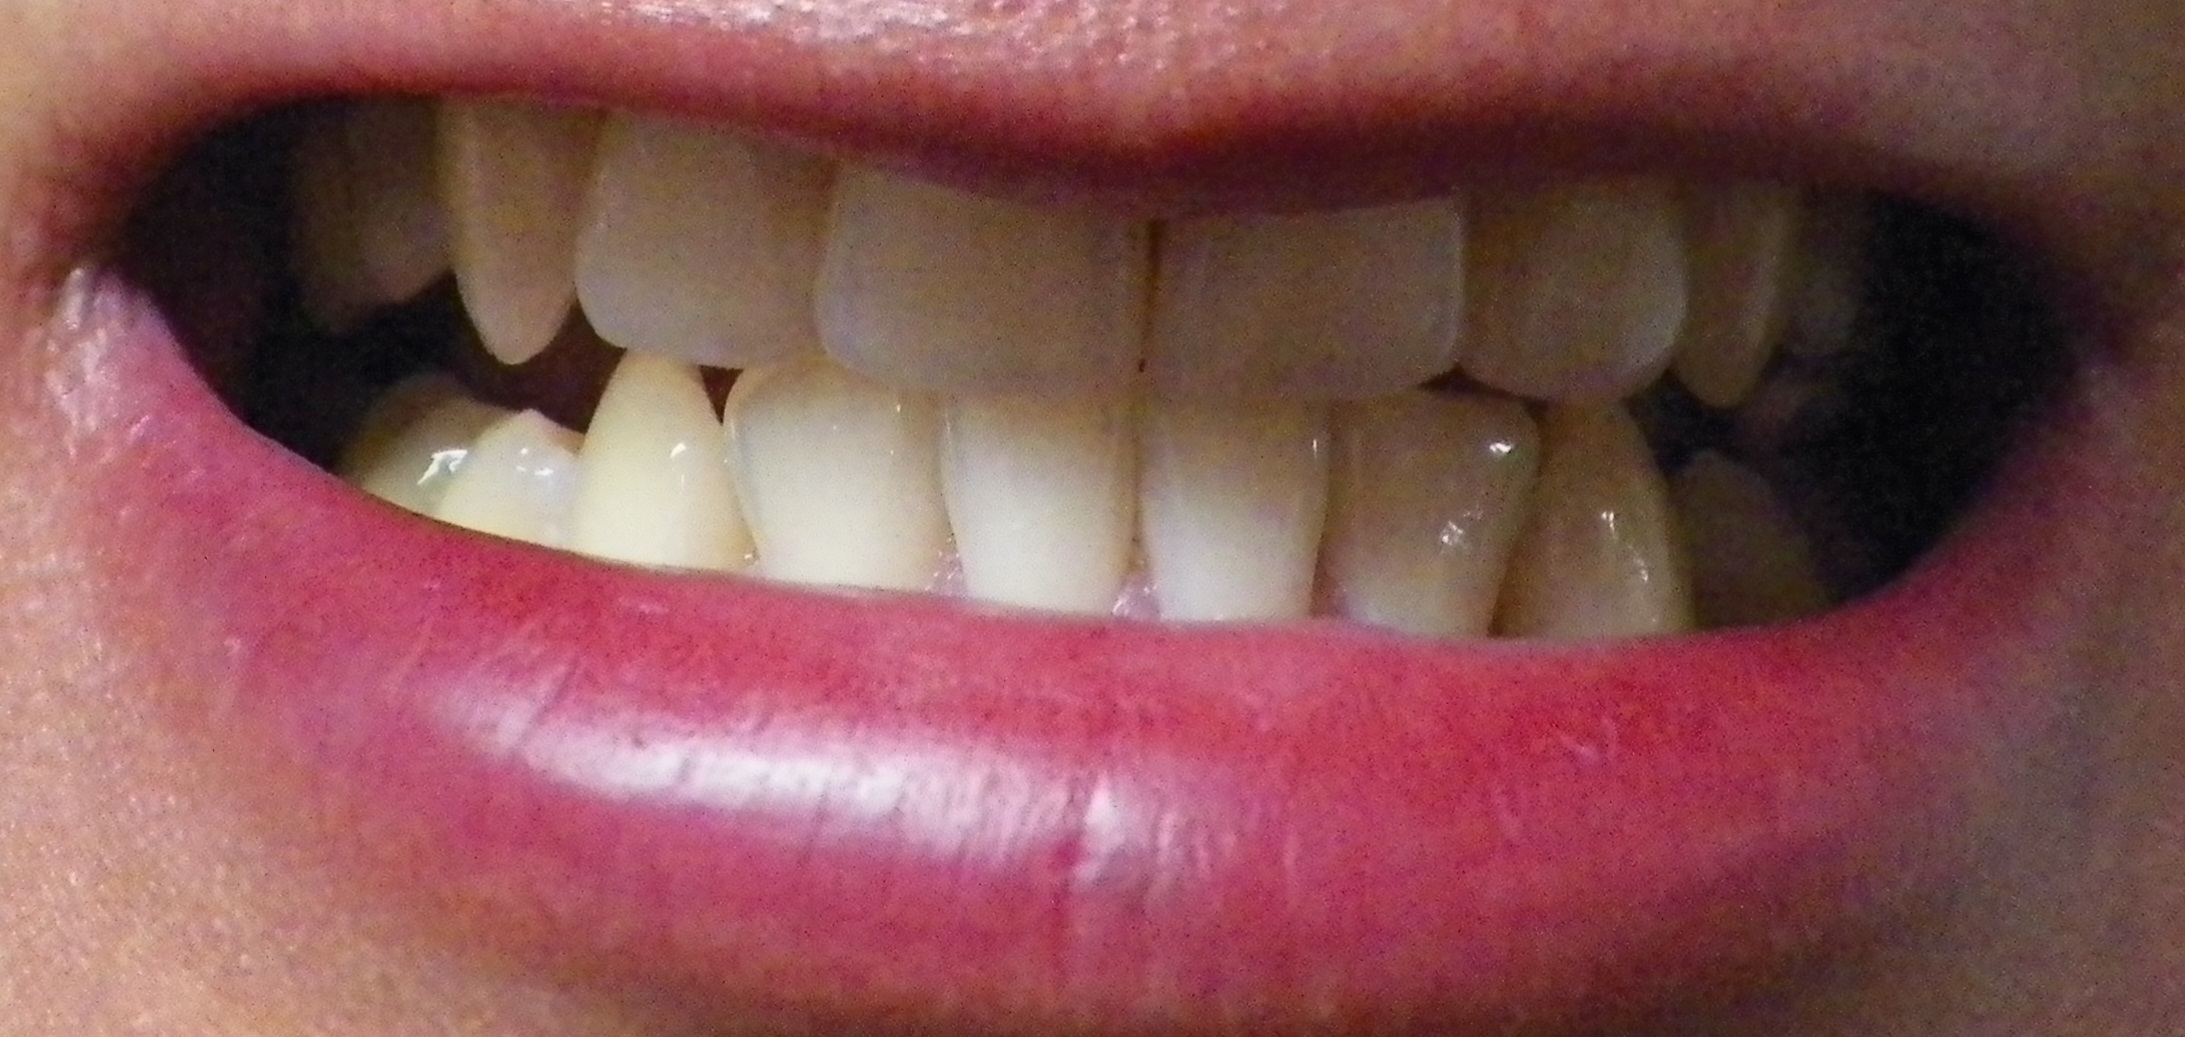boca: (325, 116, 1864, 641)
